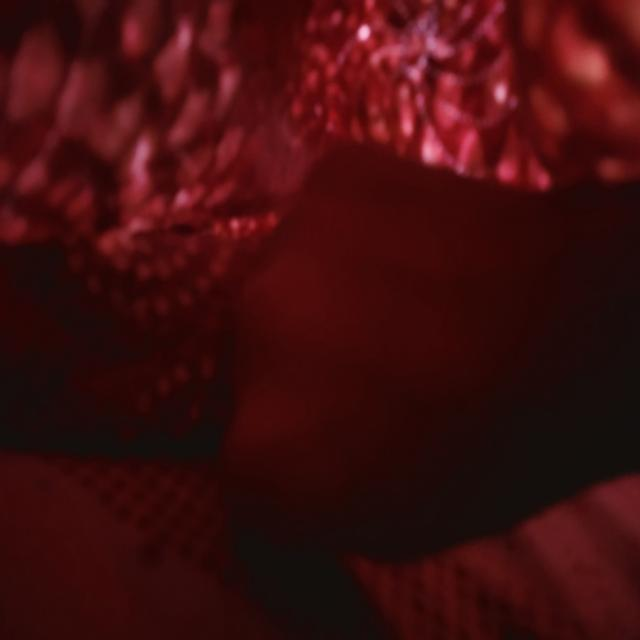Closed Hand: (215, 138, 538, 564)
